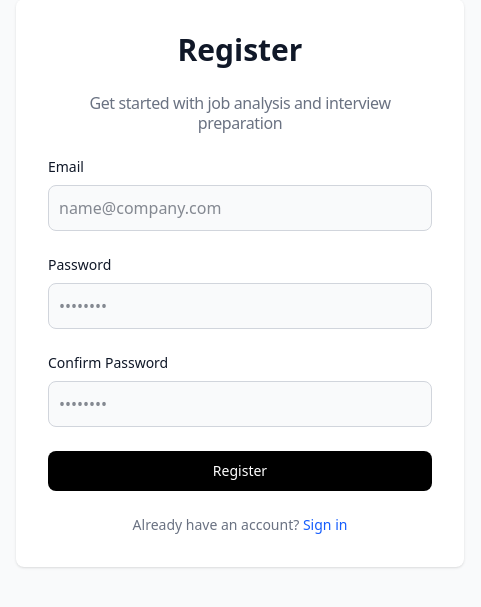
Scenario: shows error on invalid input
This screenshot has width=481, height=607.
In the field labelled "Email": (240, 208) [48,185,432,231], type "user@example.com"
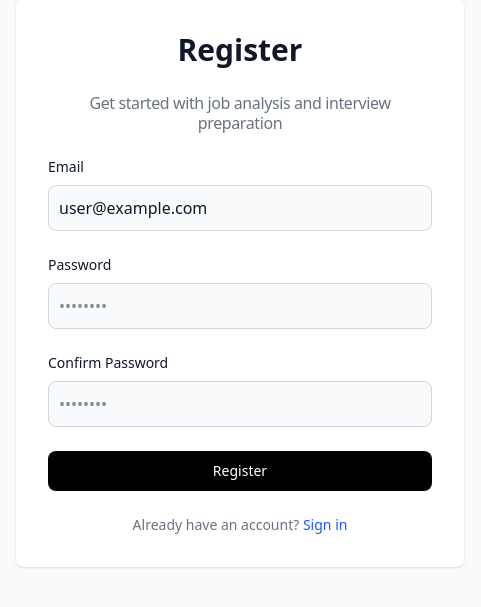
In the password field labelled "Password": (240, 306) [48,283,432,329], type "secret"
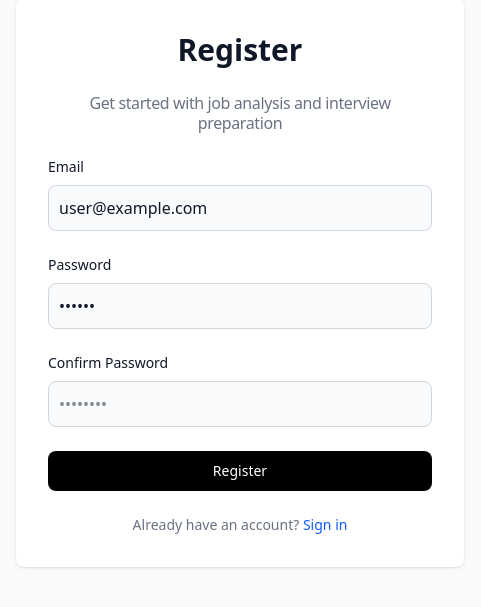
In the password field labelled "Confirm Password": (240, 404) [48,381,432,427], type "secret"
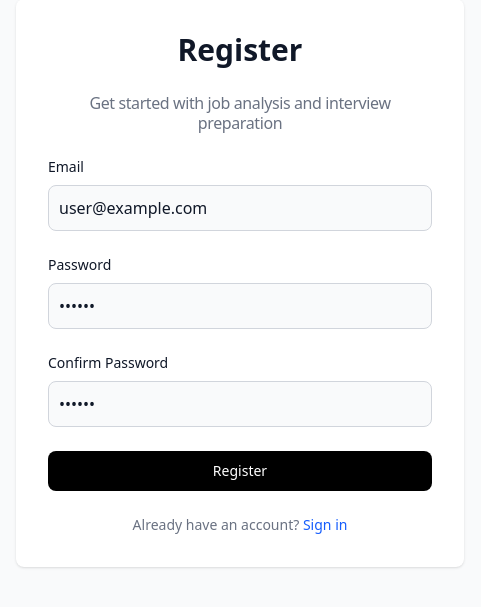
Click the button "Register": (240, 471) [48,451,432,491]
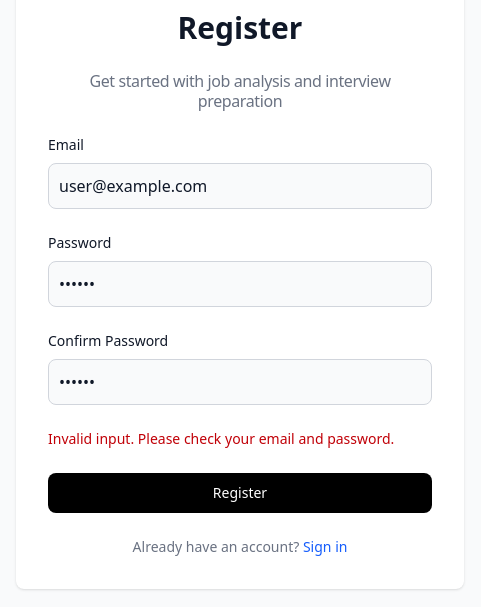
Result: the text "Invalid input. Please check your email and password." is shown at [48,429,432,449]
